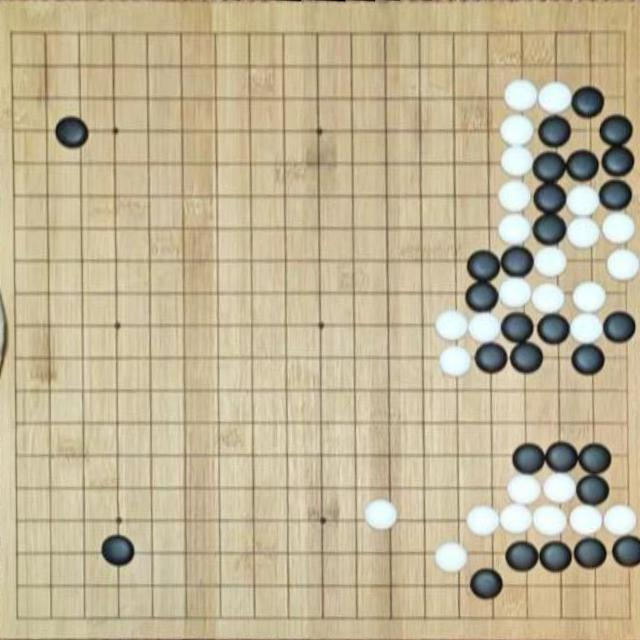blackstone: (54, 115, 90, 149), (101, 534, 136, 568), (601, 145, 635, 178), (571, 344, 605, 376), (602, 311, 636, 343), (465, 280, 499, 312), (599, 179, 633, 211), (512, 443, 546, 475), (532, 213, 566, 245), (566, 149, 600, 181), (538, 115, 572, 147), (533, 151, 567, 183), (574, 538, 607, 570), (539, 540, 572, 572), (578, 443, 611, 475), (501, 245, 534, 277), (467, 250, 501, 281), (599, 115, 633, 146), (533, 182, 567, 213), (546, 442, 578, 474), (576, 475, 609, 506), (510, 342, 542, 373), (572, 86, 604, 117), (501, 312, 534, 342), (475, 343, 507, 373), (506, 541, 538, 571), (538, 314, 570, 344), (471, 569, 503, 599), (611, 535, 640, 567)
whitestone: (362, 497, 399, 532), (565, 218, 601, 252), (572, 280, 607, 314), (533, 245, 568, 279), (566, 184, 600, 218), (497, 180, 532, 213), (538, 81, 573, 114), (532, 504, 567, 537), (602, 212, 636, 245), (498, 213, 532, 246), (606, 249, 640, 282), (542, 472, 576, 505), (466, 505, 500, 538), (532, 282, 566, 314), (570, 313, 604, 345), (468, 311, 502, 343), (498, 277, 532, 309), (434, 309, 468, 341), (506, 474, 540, 506), (500, 146, 534, 178), (569, 504, 603, 536), (504, 79, 538, 111), (499, 503, 533, 535), (603, 504, 636, 536), (439, 346, 472, 378), (435, 541, 468, 573), (500, 115, 534, 146)
